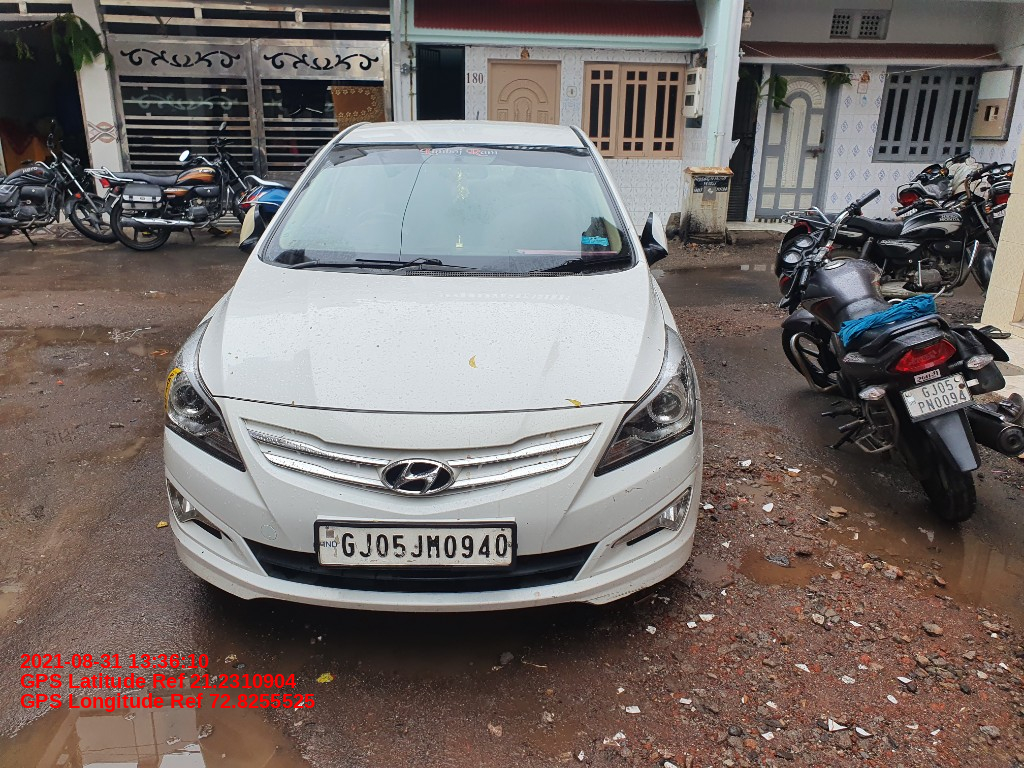Scratched: (596, 539, 611, 565), (624, 487, 644, 494), (650, 464, 664, 474), (198, 547, 209, 556)
